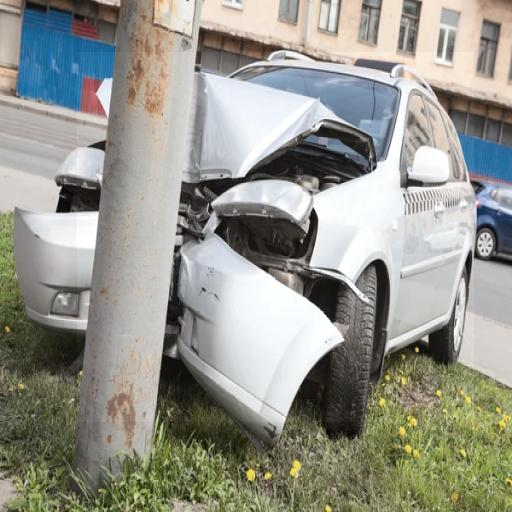小汽车撞物: (77, 52, 474, 422)
